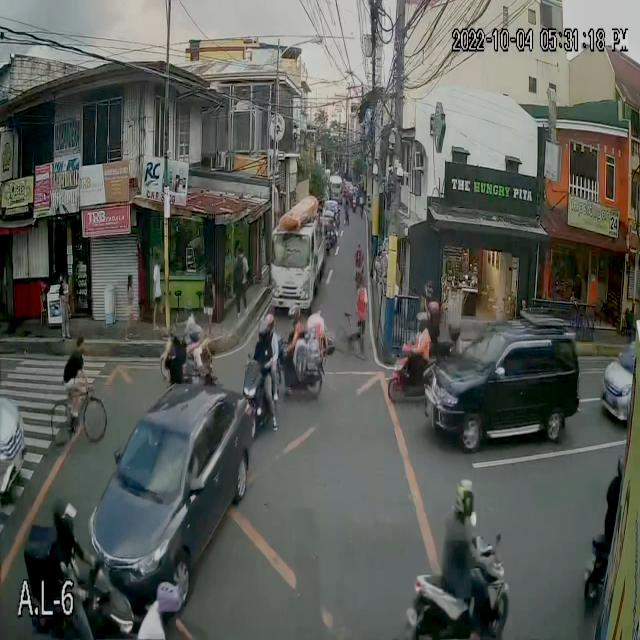Full-Faced: (48, 492, 82, 539), (182, 313, 202, 347), (607, 454, 629, 482), (452, 482, 470, 516), (428, 298, 442, 327), (253, 316, 267, 343), (290, 303, 304, 324), (268, 308, 278, 331), (349, 184, 361, 200)
Half-Faced: (410, 312, 430, 341)
Invalid: (159, 576, 176, 607)
